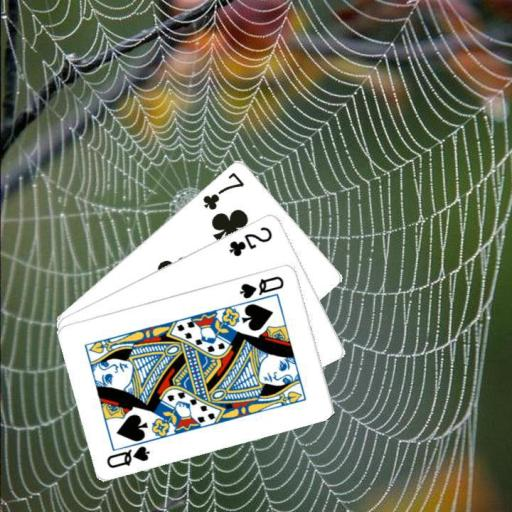2C: (226, 223, 274, 258)
7C: (199, 168, 245, 212)
QS: (236, 272, 286, 300), (104, 443, 151, 470)
